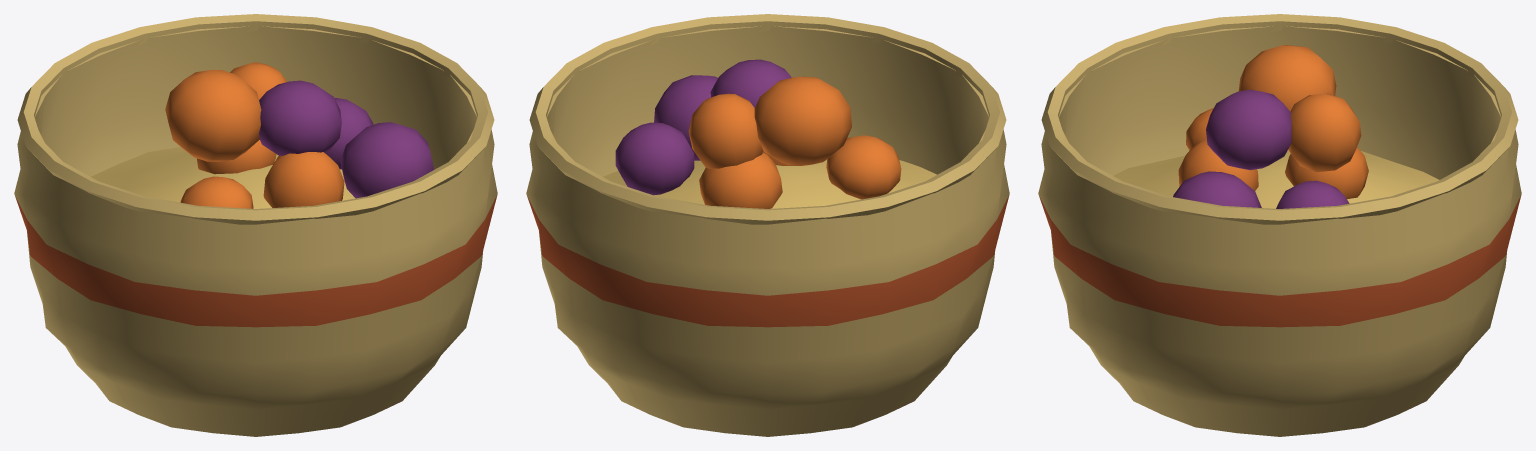
The model's file is deco_basket_round.fbx.
3 renders of one model, left to right at view 1: azimuth 30°, elevation 25°; view 2: azimuth 150°, elevation 25°; view 3: azimuth 270°, elevation 25°, orthographic.
Parts seen in each view (by area): view 1: Basket_Round_Basket, Basket_Round_Contents; view 2: Basket_Round_Basket, Basket_Round_Contents; view 3: Basket_Round_Basket, Basket_Round_Contents.
Boxes of the visible parts, box(x1,y1,x2,y2) form: Basket_Round_Basket: box(14, 14, 497, 436); Basket_Round_Contents: box(91, 62, 433, 208); Basket_Round_Basket: box(526, 14, 1009, 436); Basket_Round_Contents: box(603, 59, 936, 208); Basket_Round_Basket: box(1038, 14, 1521, 436); Basket_Round_Contents: box(1113, 45, 1439, 208).
Size of the model in its own units: 85.68 by 58.04 by 85.68.
